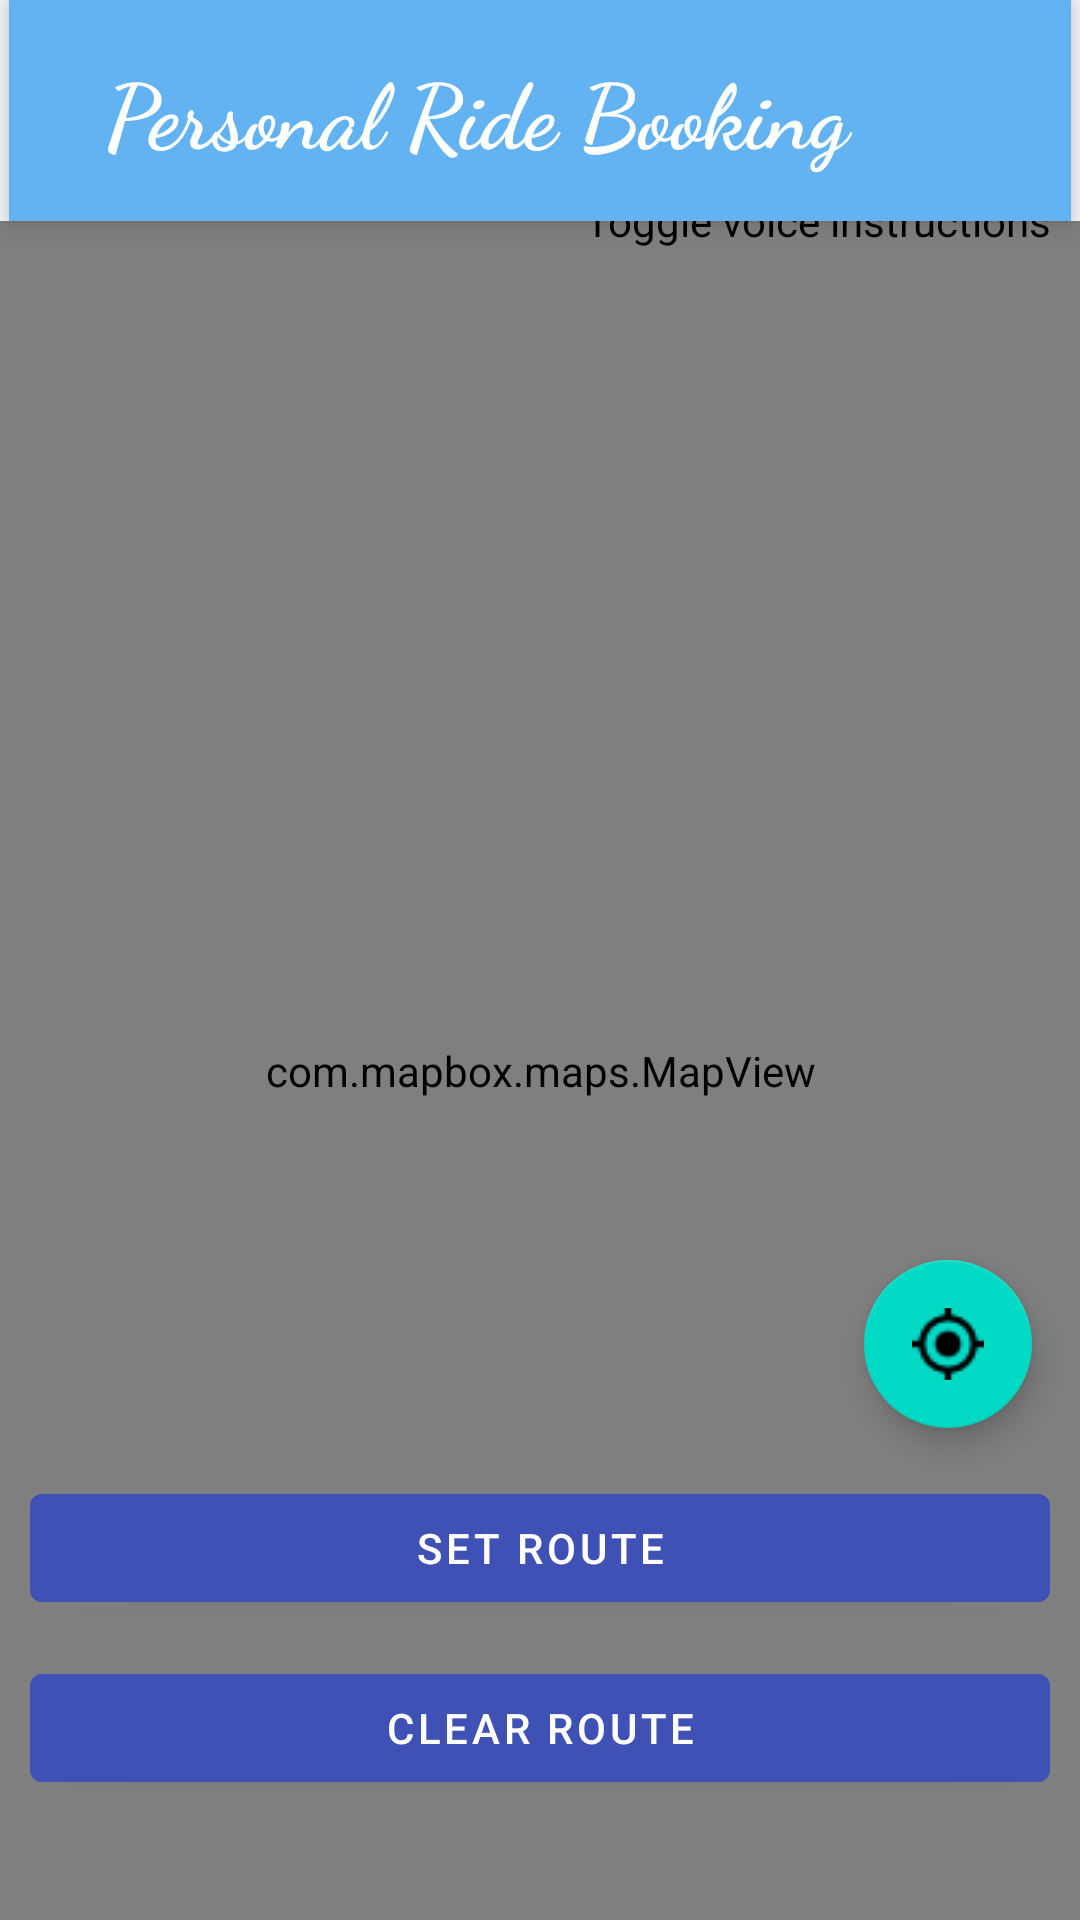

Named icons in this screenshot (1080*1920) and their centers, point (x, y):
Focus on current location: point (948, 1344)
